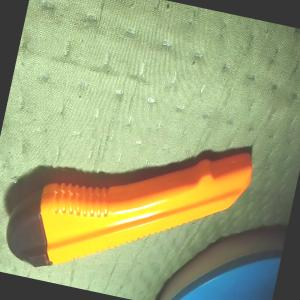estilete: (0, 106, 256, 300)
